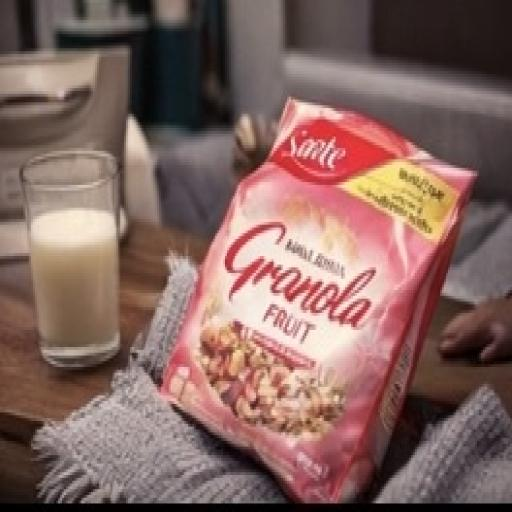granola: (154, 49, 497, 500)
